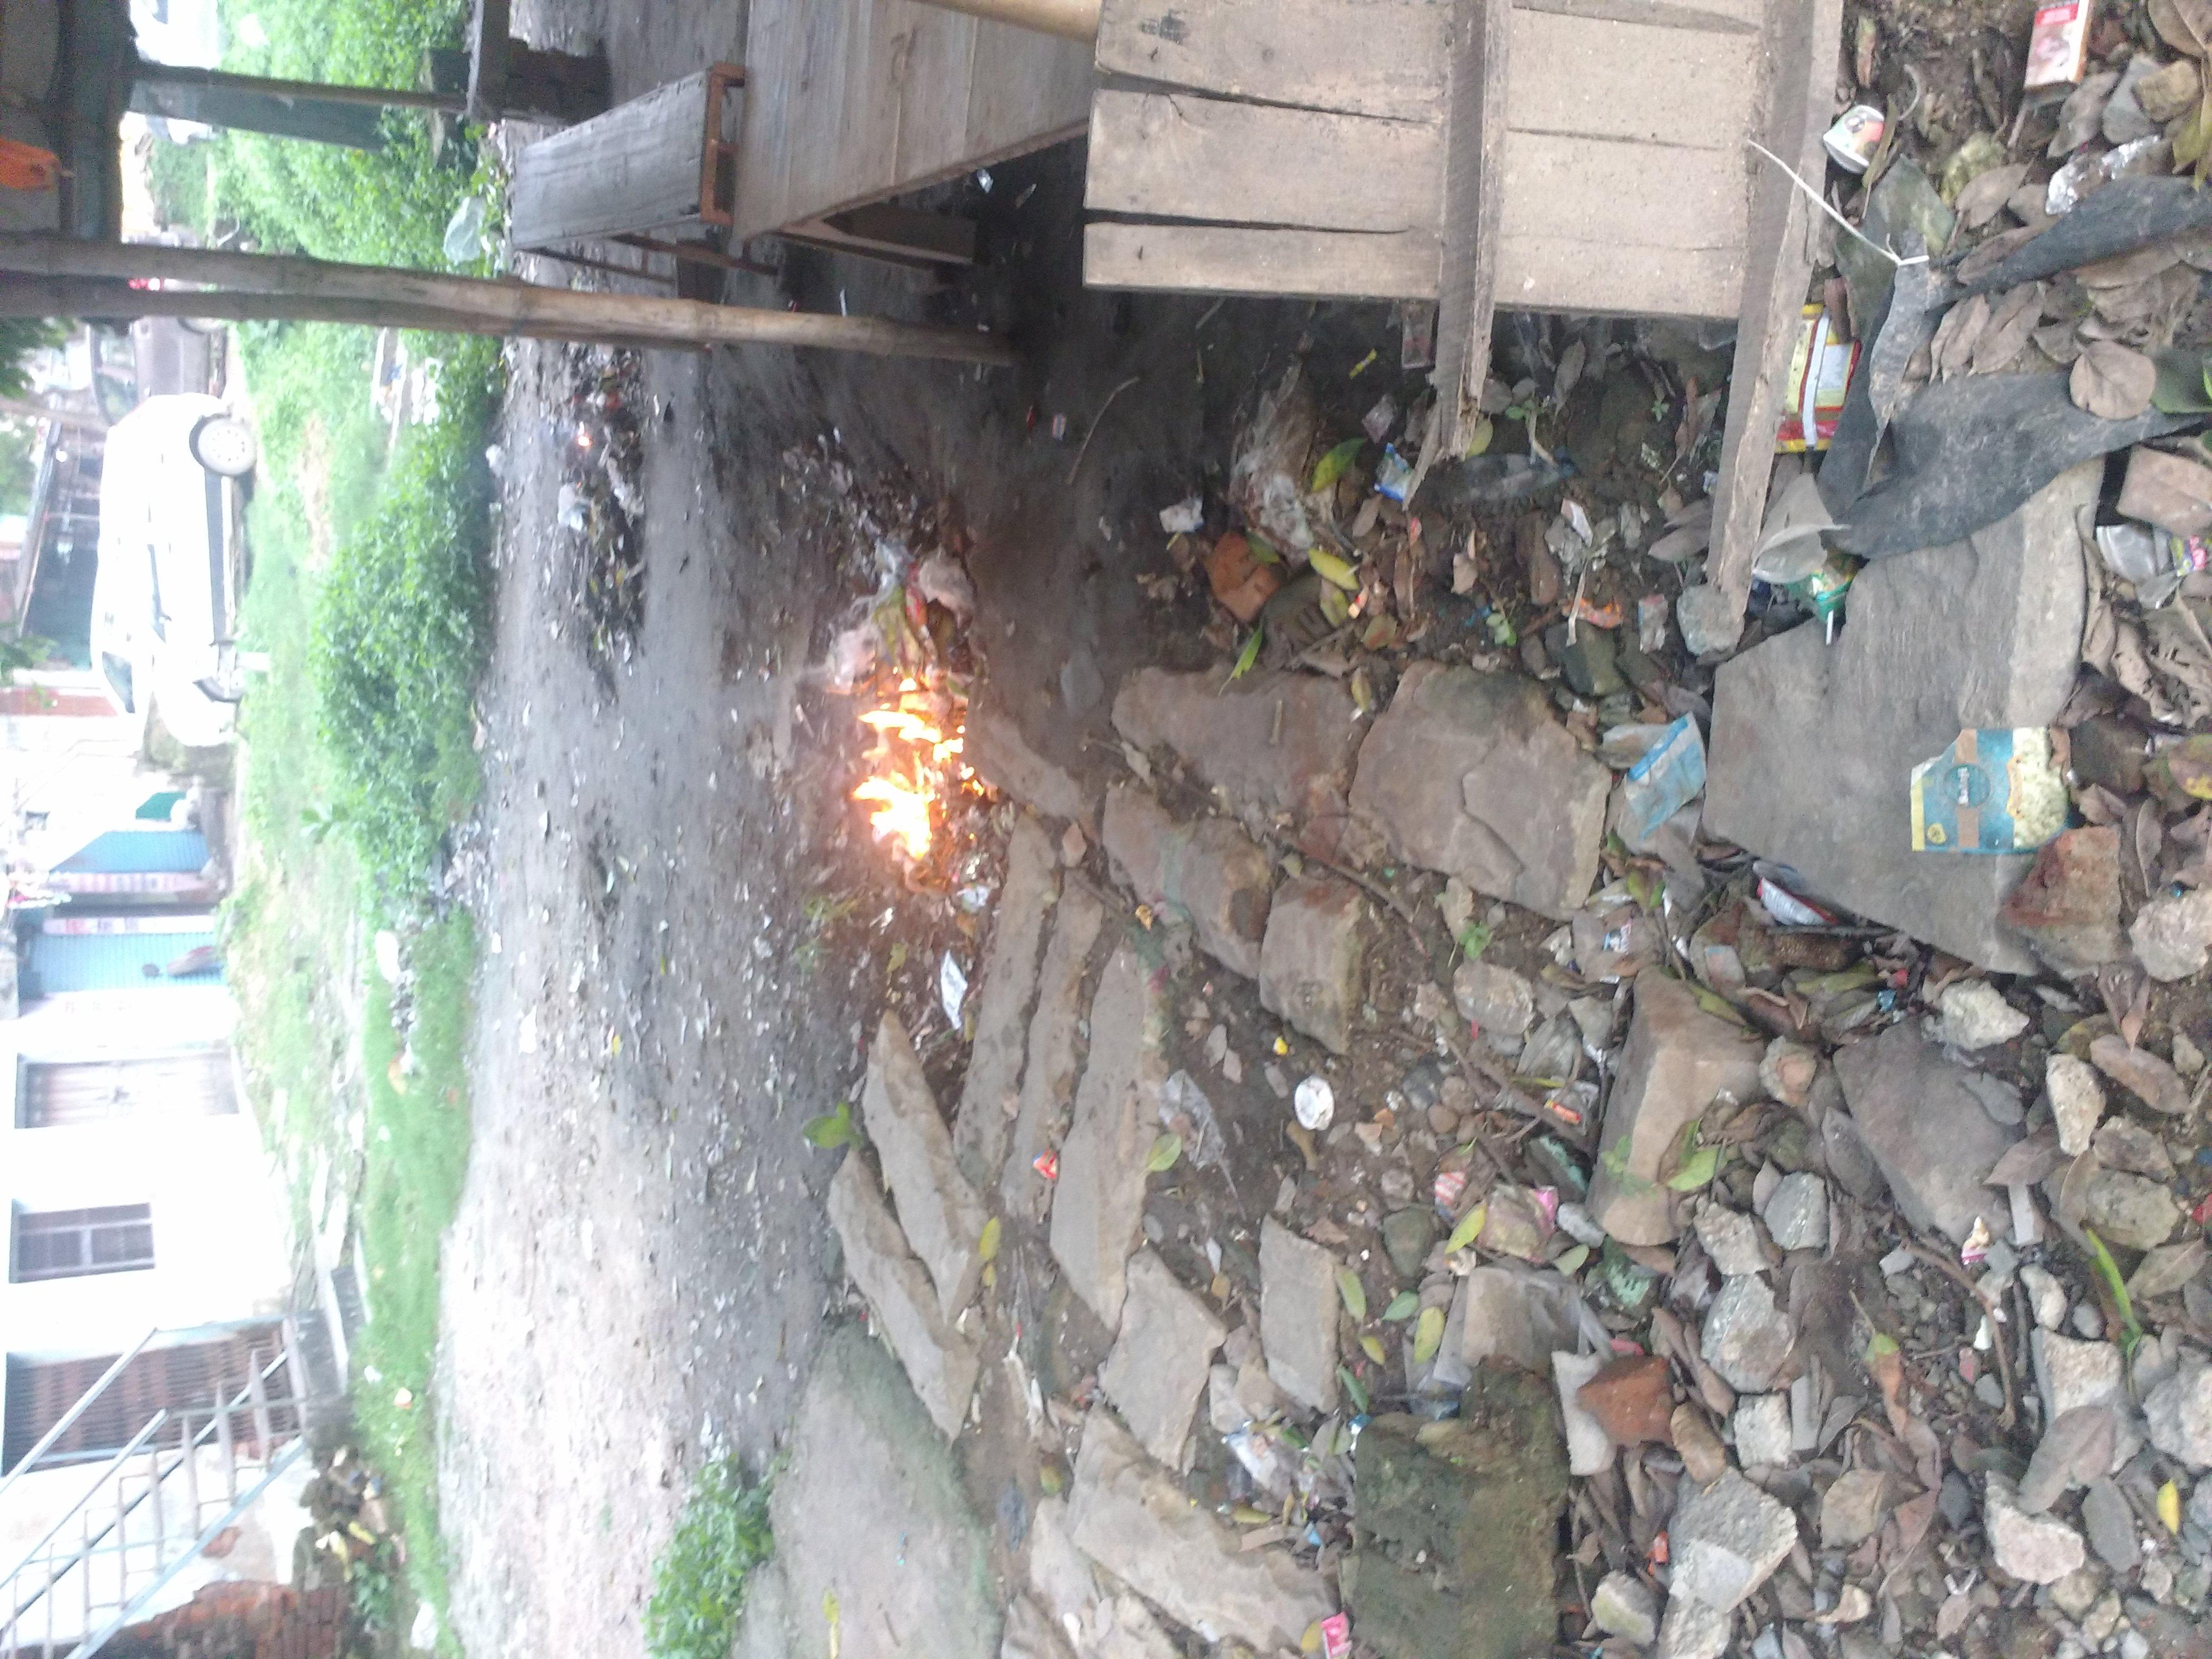fire: (1052, 631, 1330, 745)
